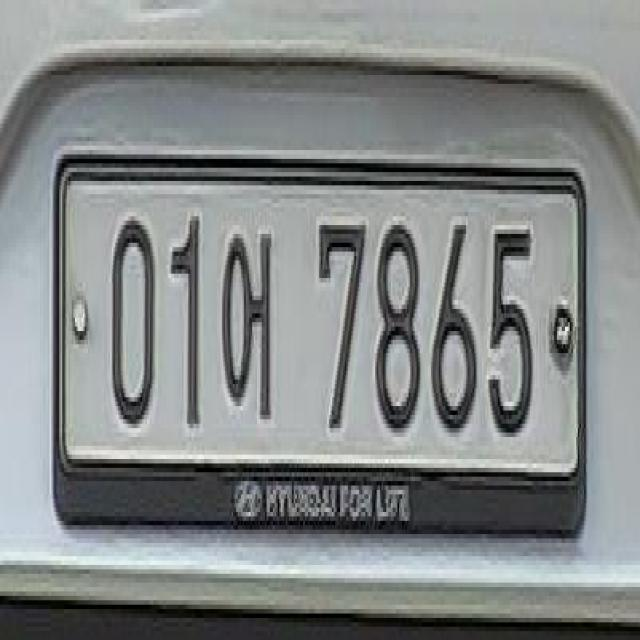illegal_plate: (52, 142, 594, 551)
